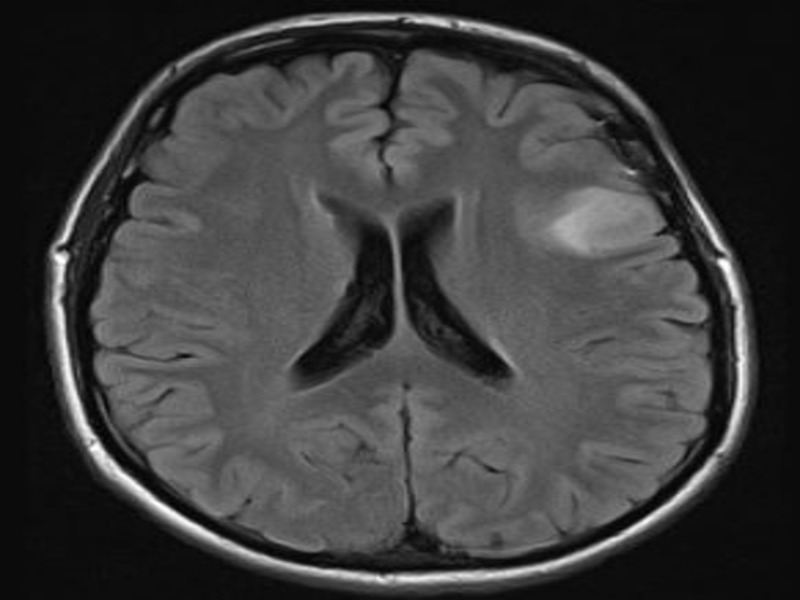tumor: (546, 177, 667, 264)
